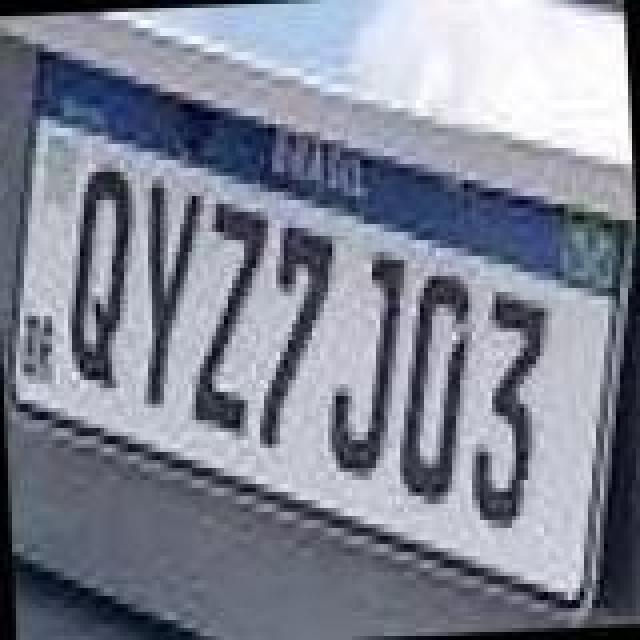3: (464, 286, 560, 530)
7: (246, 222, 346, 450)
D: (386, 264, 478, 504)
J: (320, 252, 416, 484)
Q: (60, 164, 148, 396)
Y: (136, 168, 216, 408)
Z: (178, 190, 278, 434)
